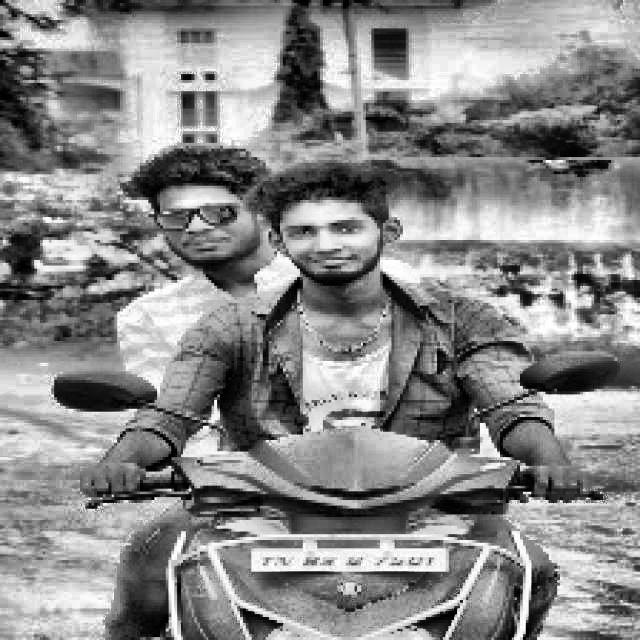motorcycle: (54, 351, 624, 640)
